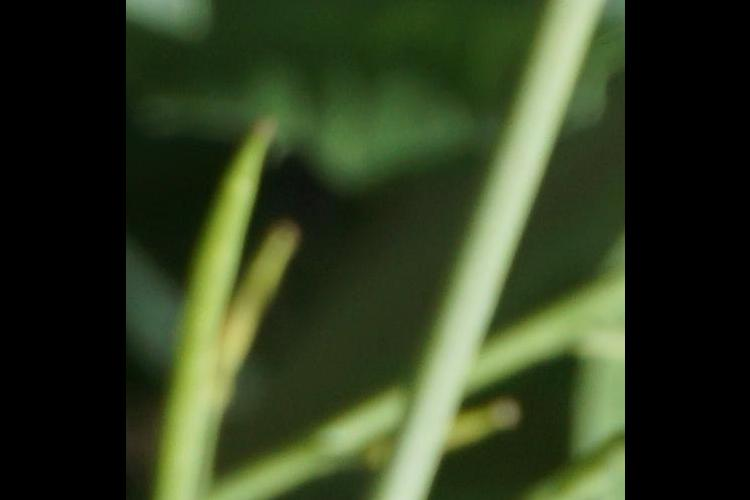pod: (162, 100, 285, 500)
